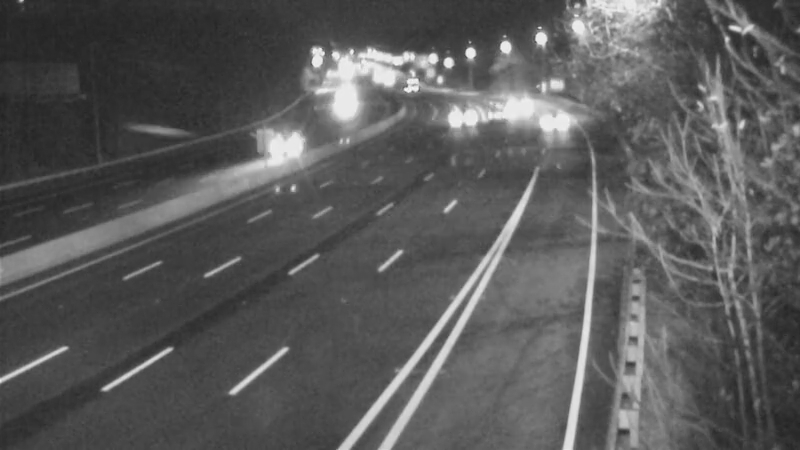vehicle: (389, 58, 439, 108), (490, 82, 540, 132), (526, 91, 576, 141), (467, 89, 517, 139), (434, 91, 484, 141), (256, 123, 306, 173), (319, 71, 369, 121)
